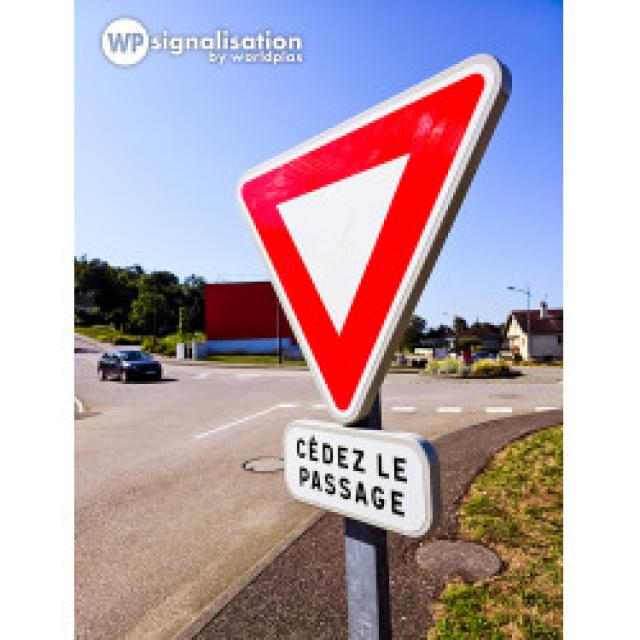let_go: (234, 61, 508, 542), (232, 60, 507, 425)
